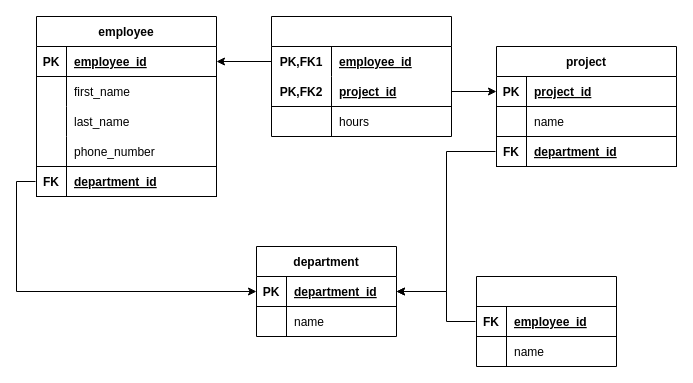
The diagram is 693 pixels wide and 383 high, and some of its shapes have lost their labels. The box of each missing label's shape, as (x1, y1, x2, y2) in pixels:
locations: (476, 276, 616, 366)
works_on: (270, 16, 452, 136)
